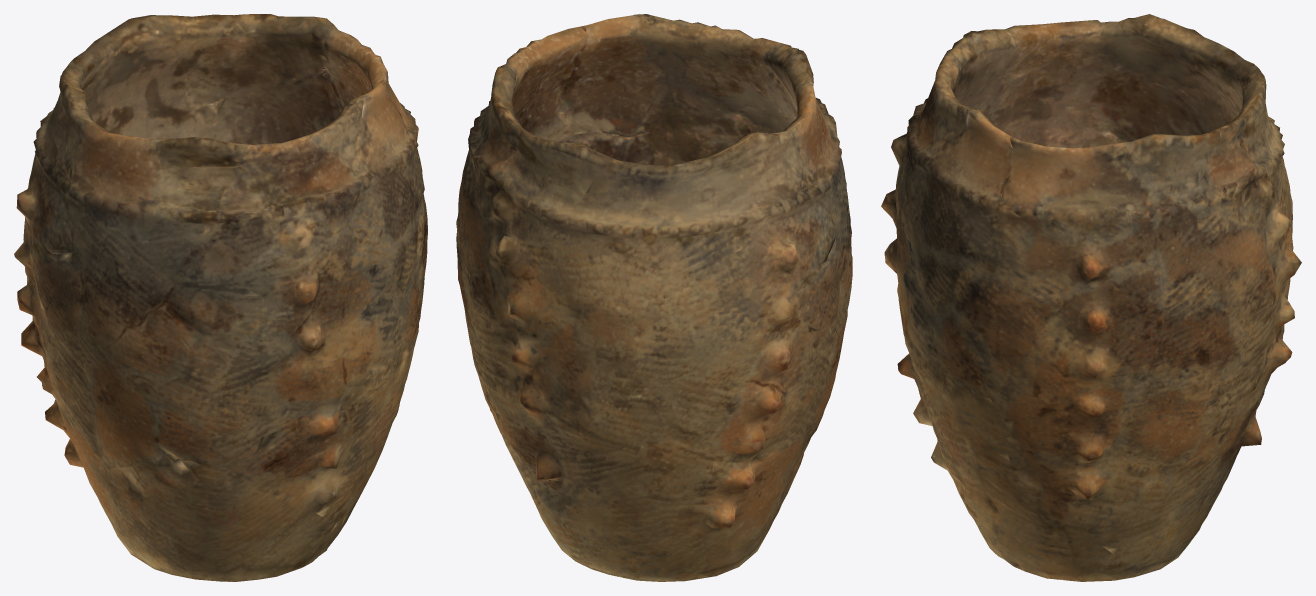
3 renders of one model, left to right at view 1: azimuth 30°, elevation 25°; view 2: azimuth 150°, elevation 25°; view 3: azimuth 270°, elevation 25°, orthographic.
Parts seen in each view (by area): view 1: SJ0504_low; view 2: SJ0504_low; view 3: SJ0504_low.
Part boxes in pixels (x1,y1,x2,y2): SJ0504_low: (14, 14, 427, 581); SJ0504_low: (456, 14, 852, 581); SJ0504_low: (881, 14, 1301, 581).
Bounding box in the file's own units: 210 × 259 × 212.
Materials: 1 (1 with a texture image).
